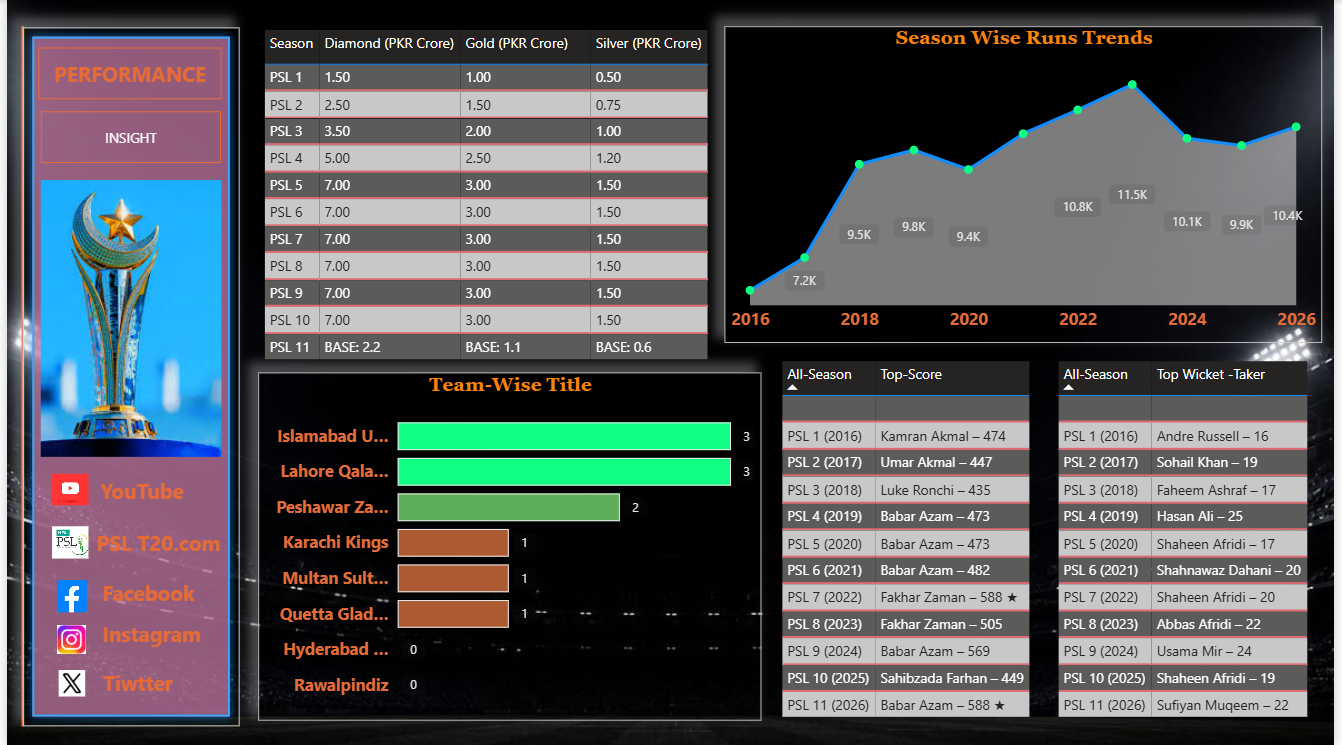

What the dashboard file says about the page in this screenshot:
{"tool":"powerbi","page":{"name":"INSIGHT","canvas":[1280,720],"ordinal":1},"visuals":[{"type":"tableEx","fields":{"Values":["S6 - All-Time Records xlsx.All-Season","S6 - All-Time Records xlsx.Top-Score"]},"box":[741.4,344.3,267.1,357.1],"z":0},{"type":"tableEx","fields":{"Values":["S6 - All-Time Records xlsx.All-Season","S6 - All-Time Records xlsx.Top Wicket -Taker"]},"box":[1008.6,344.3,261.4,357.1],"z":1000},{"type":"clusteredBarChart","title":"Team-Wise Title","fields":{"Category":["S6 - All-Time Records xlsx.TEAM-"],"Y":["Sum(S6 - All-Time Records xlsx.Title-won-)"]},"box":[242.9,360,485.7,335.7],"z":2000},{"type":"stackedAreaChart","title":"Season Wise Runs Trends","fields":{"Category":["S1 - Season Standings xlsx.Year"],"Y":["Sum(S1 - Season Standings xlsx.Total Runs)"]},"box":[692.9,25.7,577.1,305.7],"z":3000},{"type":"shape","box":[0,25.7,30,675.7],"z":4000},{"type":"shape","box":[15.7,27.1,208.6,674.3],"z":5000},{"type":"actionButton","box":[78.6,638.6,95.7,41.4],"z":6000},{"type":"image","box":[48.5,559.2,28.5,31.5],"z":7000},{"type":"actionButton","box":[43.1,550.8,141.5,40],"z":8000},{"type":"image","box":[48.5,603.1,28.5,27.7],"z":9000},{"type":"actionButton","box":[68.5,590.8,141.5,40],"z":10000},{"type":"image","box":[43.1,507.7,35.4,31.5],"z":11000},{"type":"actionButton","box":[62.3,501.5,166.9,42.3],"z":12000},{"type":"pageNavigator","box":[32.9,107.1,174.3,50],"z":13000},{"type":"pageNavigator","box":[30,45.7,177.1,50],"z":14000},{"type":"image","box":[48.5,646.2,28.5,25.4],"z":15000},{"type":"actionButton","box":[68.7,452.7,123.3,40],"z":16000},{"type":"image","box":[43.3,457.3,35.3,30],"z":17000},{"type":"image","box":[32.9,174.3,174.3,267.1],"z":18000},{"type":"tableEx","fields":{"Values":["HBL PSL – Season Winners & Top 4 Standings (2016–2025) (S1 - Season Standings xl.Season","S5 -Category Price History xlsx.Diamond (PKR Crore)","S5 -Category Price History xlsx.Gold (PKR Crore)","S5 -Category Price History xlsx.Silver (PKR Crore)"]},"box":[242.9,24.3,450,340],"z":19000}]}

Visuals, with their boxes in screenshot pixels (x1, y1, x2, y2), scaled from the page's 1280x720 canvas onto the 1342x745 screenshot:
tableEx - S6 - All-Time Records xlsx.All-Season x S6 - All-Time Records xlsx.Top-Score: x1=777, y1=356, x2=1057, y2=726
tableEx - S6 - All-Time Records xlsx.All-Season x S6 - All-Time Records xlsx.Top Wicket -Taker: x1=1057, y1=356, x2=1332, y2=726
"Team-Wise Title" clusteredBarChart: x1=255, y1=373, x2=764, y2=720
"Season Wise Runs Trends" stackedAreaChart: x1=726, y1=27, x2=1332, y2=343
shape: x1=0, y1=27, x2=31, y2=726
shape: x1=16, y1=28, x2=235, y2=726
actionButton: x1=82, y1=661, x2=183, y2=704
image: x1=51, y1=579, x2=81, y2=611
actionButton: x1=45, y1=570, x2=194, y2=611
image: x1=51, y1=624, x2=81, y2=653
actionButton: x1=72, y1=611, x2=220, y2=653
image: x1=45, y1=525, x2=82, y2=558
actionButton: x1=65, y1=519, x2=240, y2=563
pageNavigator: x1=34, y1=111, x2=217, y2=163
pageNavigator: x1=31, y1=47, x2=217, y2=99
image: x1=51, y1=669, x2=81, y2=695
actionButton: x1=72, y1=468, x2=201, y2=510
image: x1=45, y1=473, x2=82, y2=504
image: x1=34, y1=180, x2=217, y2=457
tableEx - HBL PSL – Season Winners & Top 4 Standings (2016–2025) (S1 - Season Standings xl.Season x S5 -Category Price History xlsx.Diamond (PKR Crore): x1=255, y1=25, x2=726, y2=377
